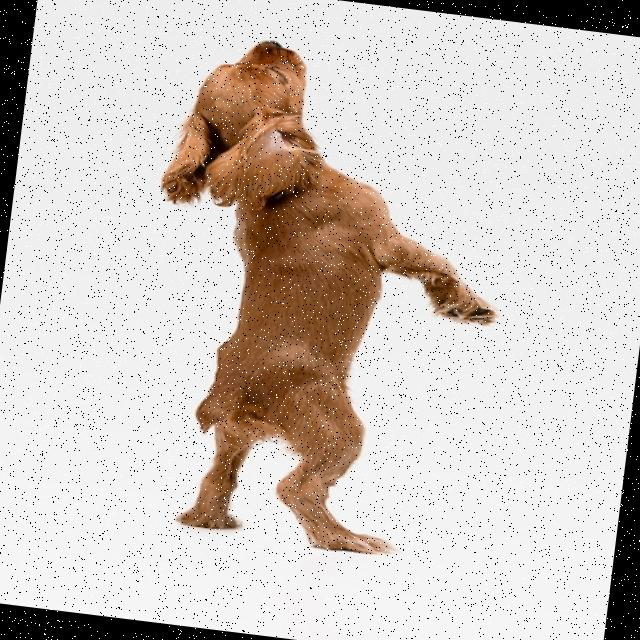Dog: (117, 29, 526, 567)
